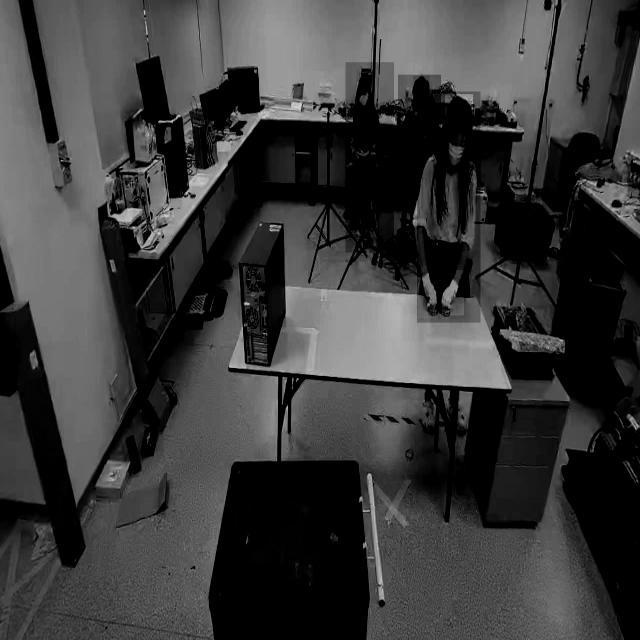face_mask: (447, 129, 467, 170), (357, 82, 371, 115)
hand_glove: (440, 270, 464, 316), (418, 266, 438, 319)
hand_noglove: (356, 146, 368, 162)
head_nohelmet: (445, 94, 473, 126), (413, 76, 429, 90), (358, 72, 372, 83)
person: (416, 92, 481, 324), (345, 62, 394, 254), (397, 74, 441, 156)
